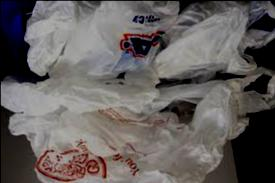Plastic: (1, 74, 274, 182), (20, 1, 182, 79), (123, 1, 274, 83)
